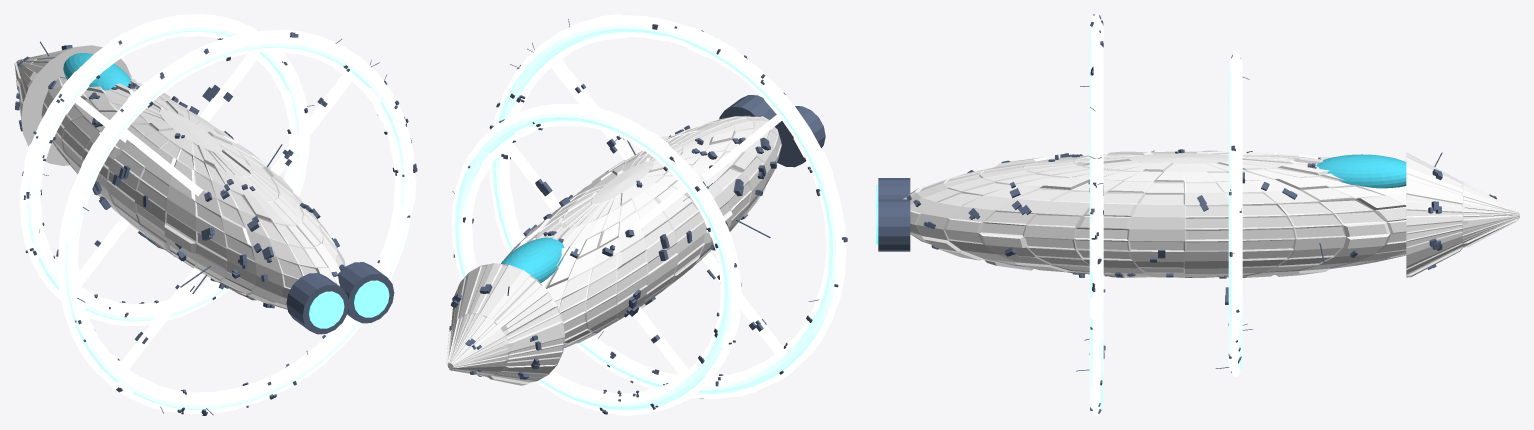
The model's file is vossari_large.glb.
The picture shows the model from 3 angles, left to right: view 1: azimuth 30°, elevation 25°; view 2: azimuth 150°, elevation 25°; view 3: azimuth 270°, elevation 25°; orthographic projection. The views are drawn at different scales.
Parts seen in each view (by area): view 1: vossari_large; view 2: vossari_large; view 3: vossari_large.
Part boxes in pixels (x1,y1,x2,y2): vossari_large: (14,14,417,415); vossari_large: (446,14,847,415); vossari_large: (876,14,1519,415).
Size of the model in its own units: 6.28 by 6.24 by 10.
